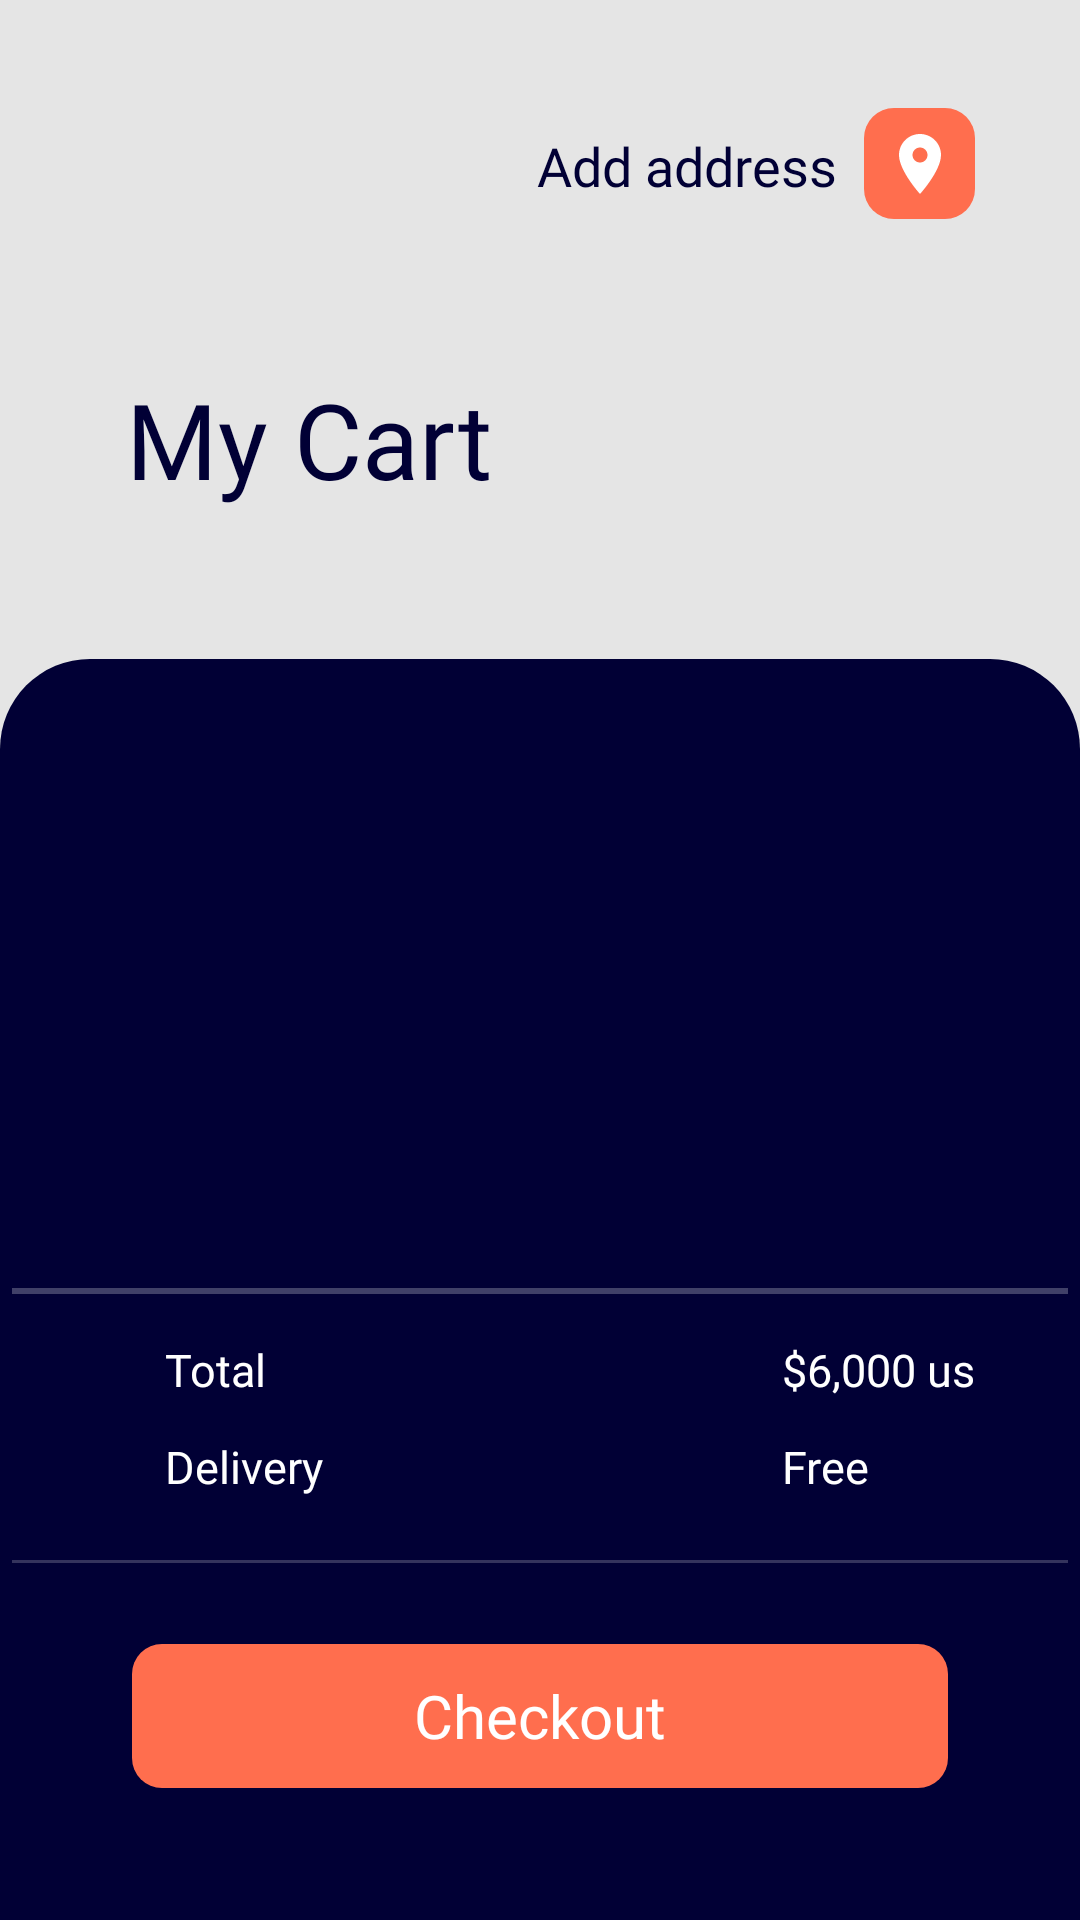

Where to tap for icons on this 1080px×1920px app screen, as [x,y]:
location: [919,163]
